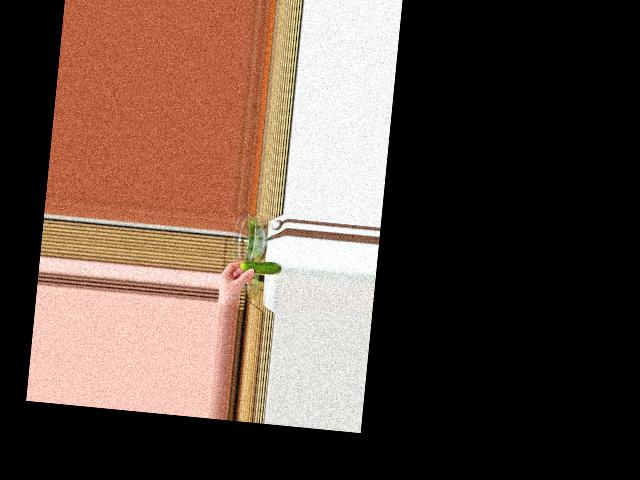cucumber: (239, 259, 281, 275)
